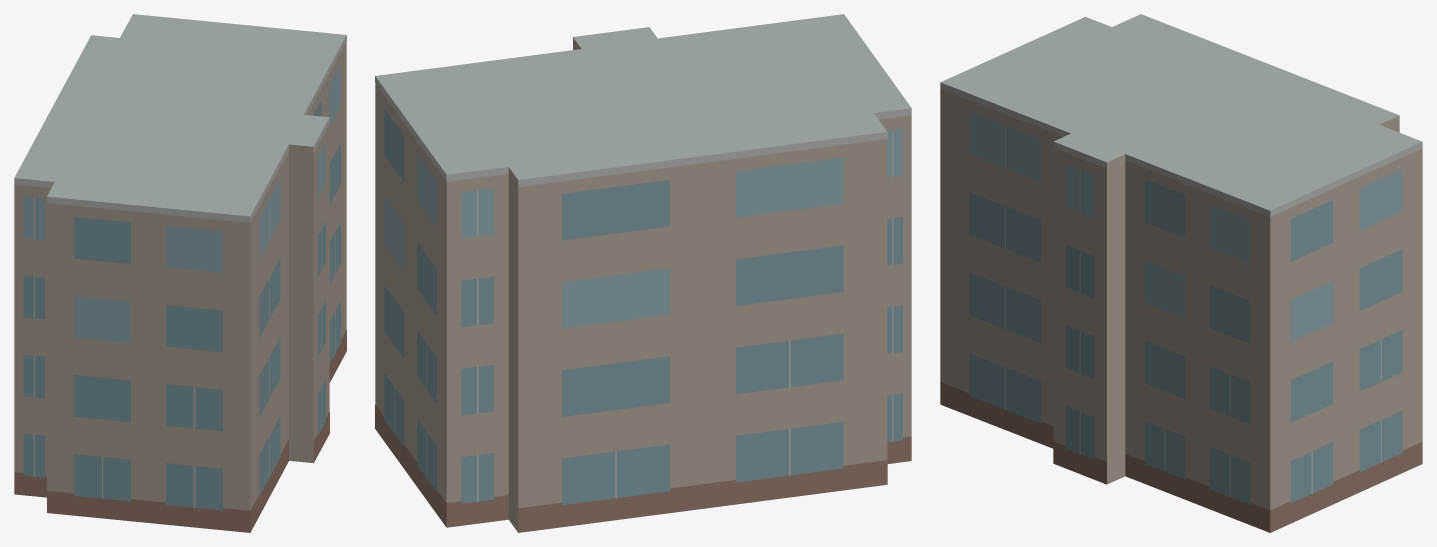
The model's file is survey-upis-32831244.glb.
3 views of the same model, side by side, from view 1: azimuth 30°, elevation 25°; view 2: azimuth 150°, elevation 25°; view 3: azimuth 270°, elevation 25° (orthographic). The views are drawn at different scales.
Visible parts, largest first — view 1: survey-upis-32831244.tmp; view 2: survey-upis-32831244.tmp; view 3: survey-upis-32831244.tmp.
Boxes of the visible parts, x1=… form: survey-upis-32831244.tmp: x1=14, y1=14, x2=346, y2=532; survey-upis-32831244.tmp: x1=375, y1=14, x2=911, y2=532; survey-upis-32831244.tmp: x1=940, y1=14, x2=1422, y2=532.
Bounding box in the file's own units: 15.99 × 12.2 × 16.56.
